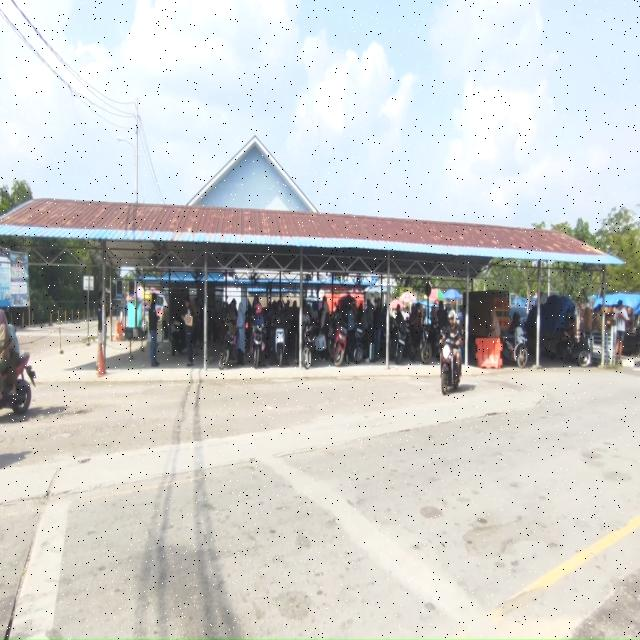Golongan II: (0, 352, 36, 414), (550, 335, 591, 367), (440, 340, 461, 395), (502, 326, 528, 369), (219, 322, 237, 370), (330, 319, 347, 366), (302, 322, 318, 370), (251, 324, 265, 369), (171, 317, 186, 356), (350, 323, 364, 364), (394, 324, 408, 365), (419, 324, 433, 365), (274, 326, 286, 367)
